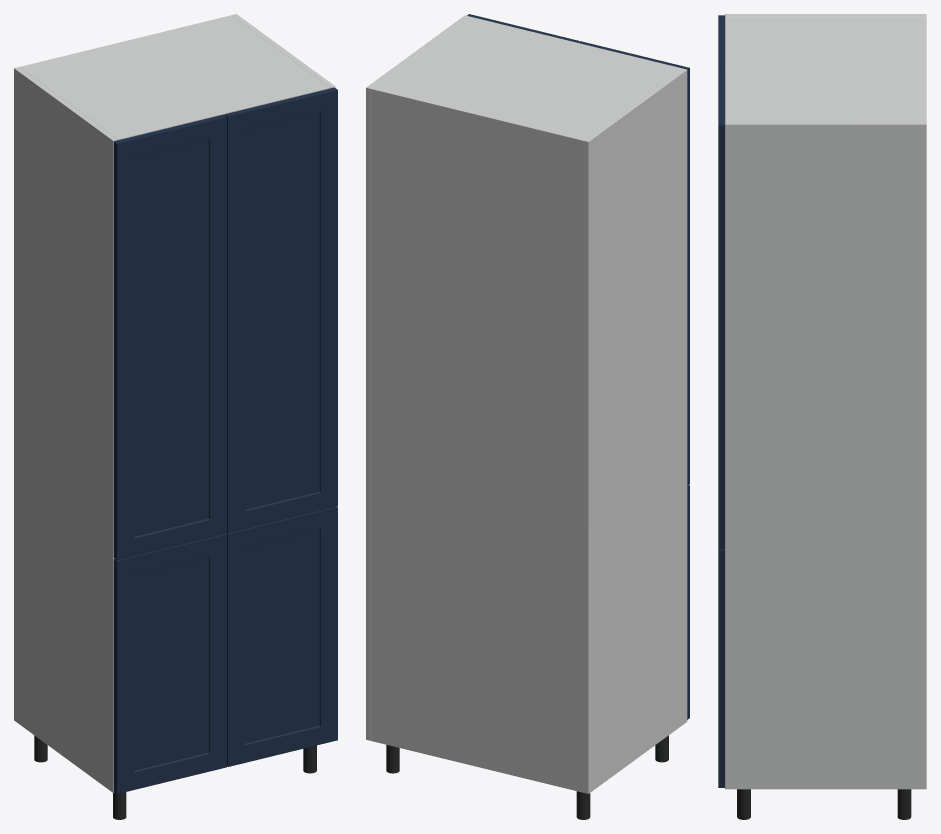
The model's file is oppein-ply-bss-pc3084.glb.
3 views of the same model, side by side, from view 1: azimuth 30°, elevation 25°; view 2: azimuth 150°, elevation 25°; view 3: azimuth 270°, elevation 25° (orthographic).
Visible parts, largest first — view 1: Cabinet side, Upper pantry door, Upper pantry door.001, Lower pantry door, Lower pantry door.001, Cabinet top; view 2: Cabinet back, Cabinet side, Cabinet top, Cabinet side.001, Upper pantry door, Cabinet bottom, Lower pantry door; view 3: Cabinet side.001, Cabinet top, Upper pantry door.001, Lower pantry door.001, Cabinet side, Cabinet back, Adjustable foot.002, Adjustable foot.003.
Part boxes in pixels (x1,y1,x2,y2): Cabinet side: (14, 67, 117, 792); Upper pantry door: (113, 114, 226, 560); Upper pantry door.001: (224, 87, 337, 532); Lower pantry door: (113, 534, 226, 793); Lower pantry door.001: (226, 506, 337, 766); Cabinet top: (21, 16, 329, 140); Cabinet back: (371, 87, 584, 792); Cabinet side: (583, 68, 687, 793); Cabinet top: (371, 16, 681, 145); Cabinet side.001: (366, 15, 469, 740); Upper pantry door: (578, 41, 689, 485); Cabinet bottom: (371, 736, 583, 792); Lower pantry door: (687, 485, 689, 719); Cabinet side.001: (725, 122, 926, 789); Cabinet top: (725, 16, 922, 121); Upper pantry door.001: (718, 70, 724, 549); Lower pantry door.001: (718, 549, 724, 787); Cabinet side: (725, 14, 926, 16); Cabinet back: (922, 16, 926, 121); Adjustable foot.002: (897, 789, 911, 819); Adjustable foot.003: (737, 789, 750, 819).
Bounding box in the file's own units: 0.762 × 2.25 × 0.6064.
